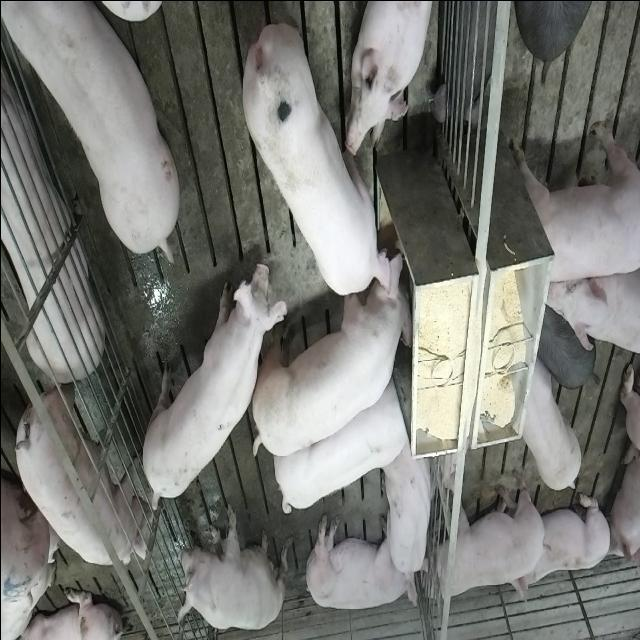Feeding: (240, 20, 398, 301), (253, 255, 419, 463)
Lateral_lying: (0, 39, 102, 380), (301, 512, 419, 612)
Sitting: (177, 502, 286, 633)
Standing: (0, 0, 176, 259), (136, 255, 280, 511), (8, 372, 143, 569), (508, 121, 638, 285), (272, 377, 410, 516), (423, 468, 548, 612), (542, 259, 640, 357), (516, 359, 582, 492)
Sternal_lying: (346, 0, 434, 154), (515, 484, 612, 605), (377, 441, 431, 601)
